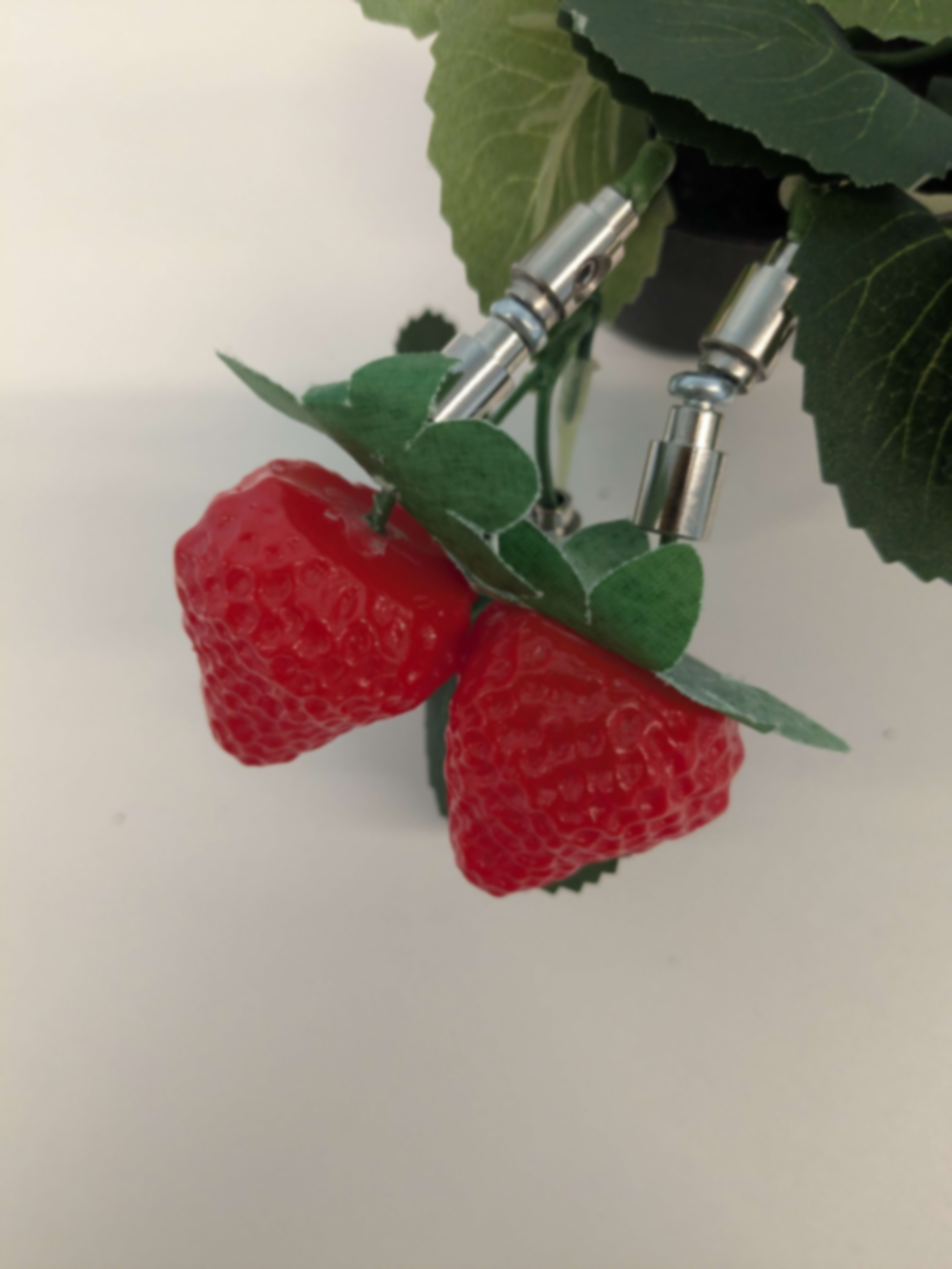Strawberry: (424, 539, 775, 926), (146, 444, 464, 780)
